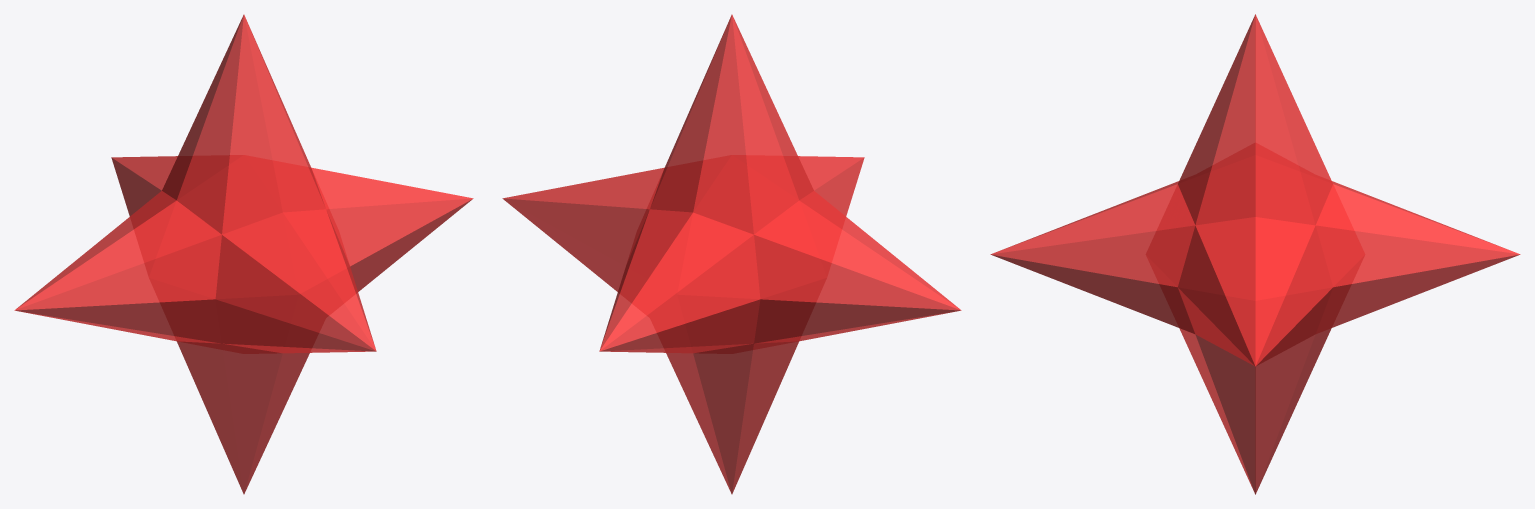
File: fractalsmallhexacronicicositetrahedron0.glb
The picture shows the model from 3 angles, left to right: view 1: azimuth 30°, elevation 25°; view 2: azimuth 150°, elevation 25°; view 3: azimuth 270°, elevation 25°; orthographic projection.
Bounding box in the file's own units: 12.27 × 12.27 × 12.27.
